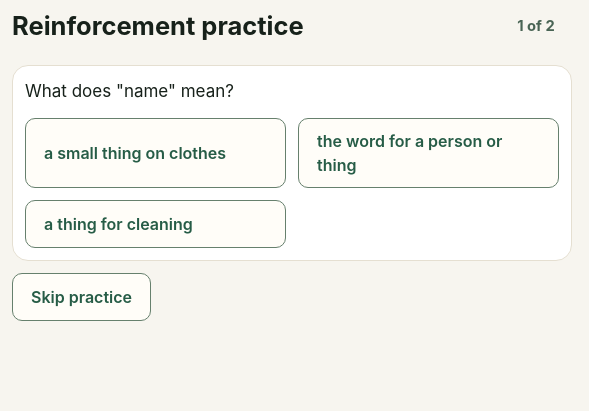
it: ReinforcementPracticePanel › allows a rejected answer save to be retried
The width and height of the screenshot is (589, 411).
Click the button "the word for a person or thing". click: (428,153)
box: x1=298 y1=118 x2=559 y2=188
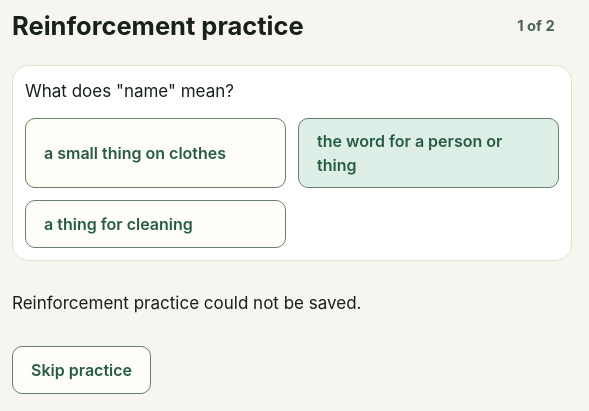
Check: the message reads "Reinforcement practice could not be saved.", box x1=12 y1=293 x2=362 y2=313
Click the button "the word for a person or thing". click: (428,153)
box: x1=298 y1=118 x2=559 y2=188
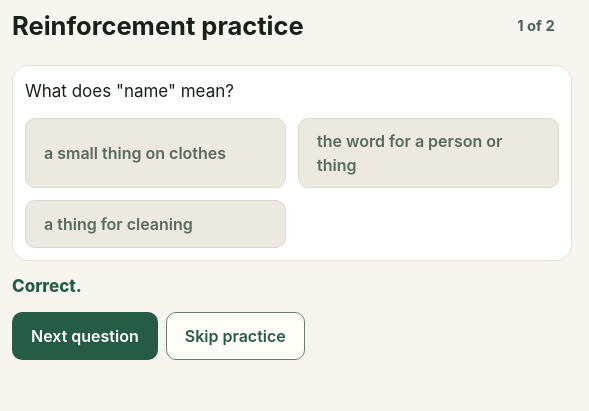
Click the button "Next question". click: (85,336)
box: x1=12 y1=312 x2=158 y2=360
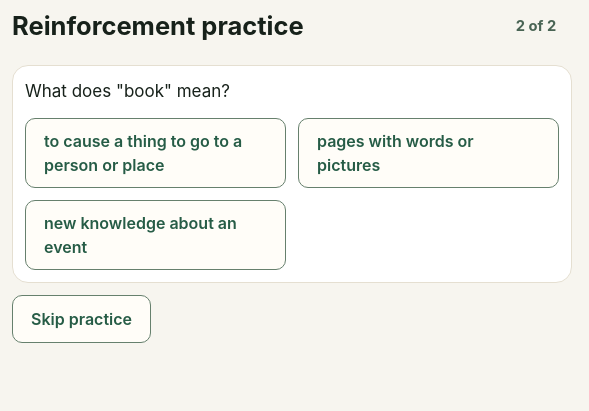
Click the button "pages with words or pictures". click: (428,153)
box: x1=298 y1=118 x2=559 y2=188
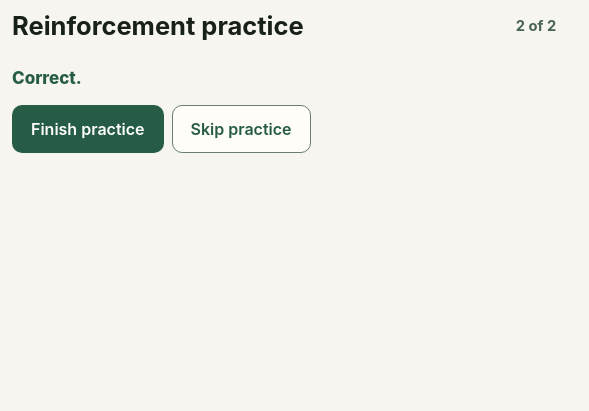
Check: the button "Finish practice" is enabled, box x1=12 y1=105 x2=164 y2=153
